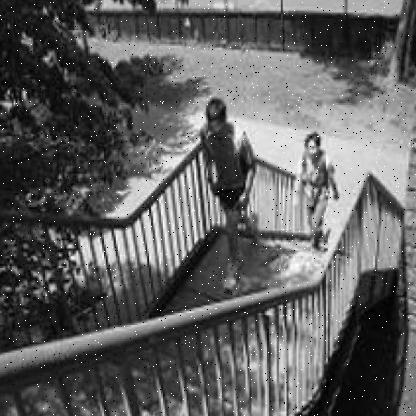stair_up: (105, 279, 296, 416)
